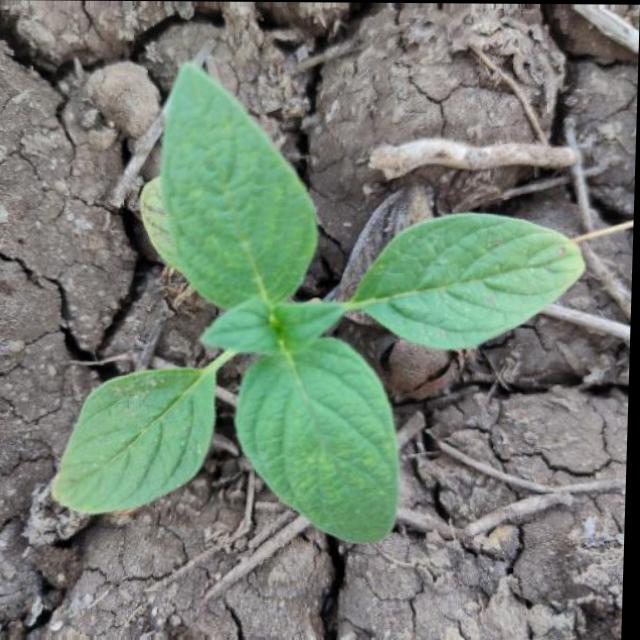crop: (39, 53, 591, 542)
